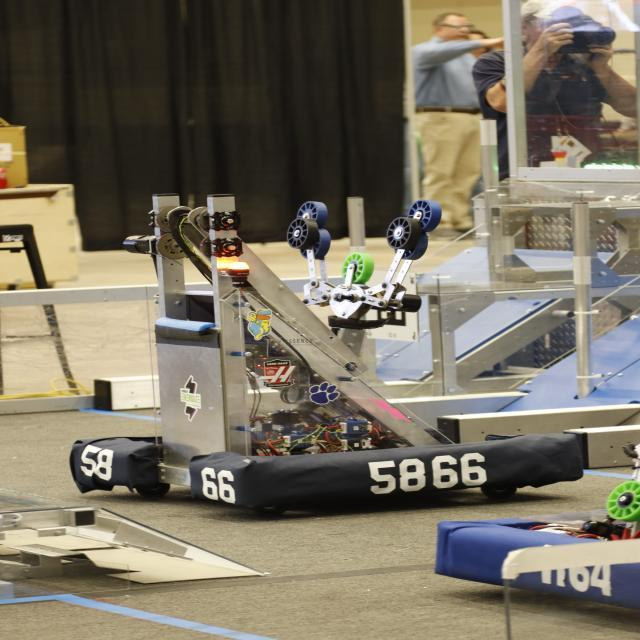robot: (57, 185, 618, 498), (419, 442, 640, 618)
